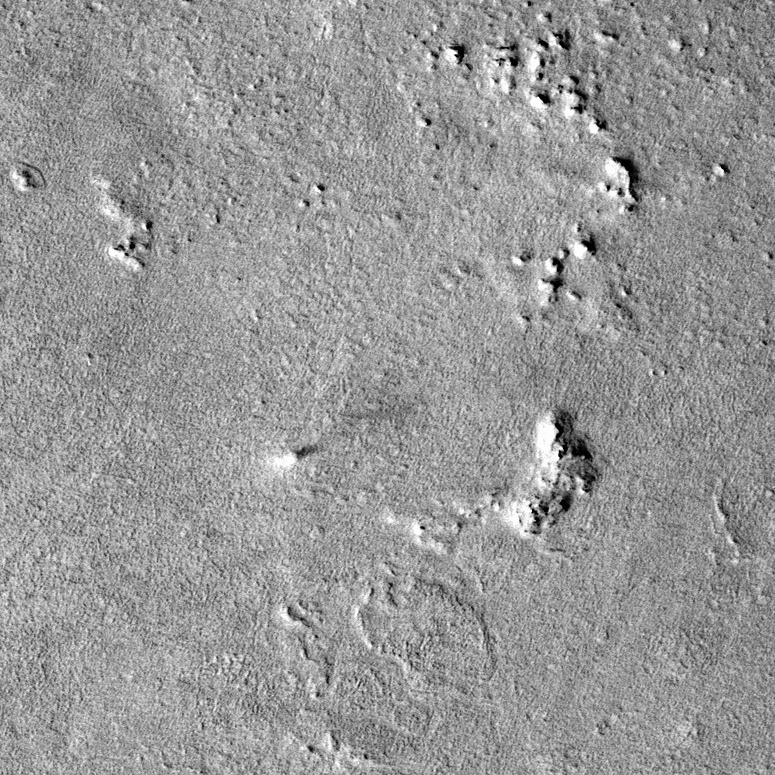dust_devil: (270, 441, 322, 470)
